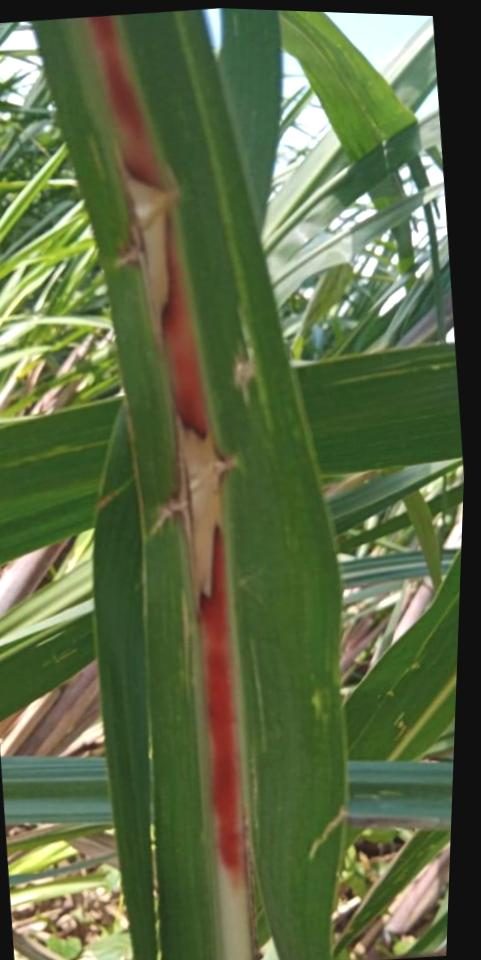RedRot: (196, 521, 243, 897), (83, 15, 164, 190), (160, 210, 205, 441)
